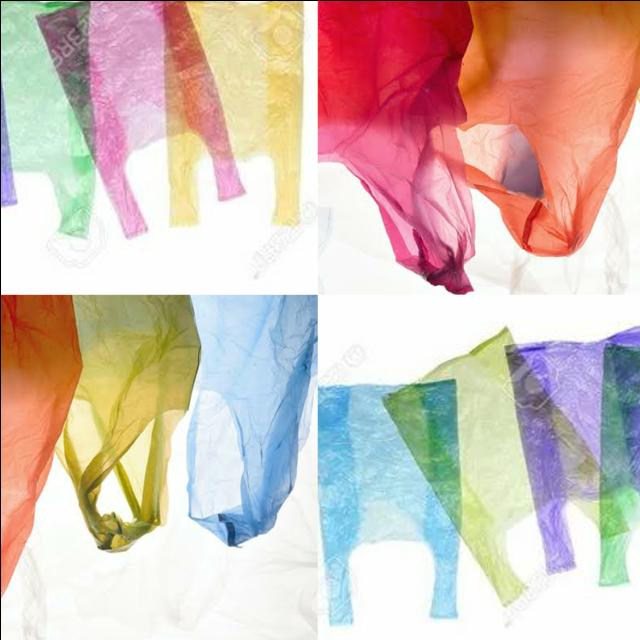plastik: (371, 316, 635, 619), (21, 0, 266, 253), (459, 0, 640, 256), (318, 0, 474, 292), (310, 374, 469, 636), (494, 316, 640, 584), (150, 0, 309, 242), (55, 295, 199, 552), (187, 296, 315, 545), (0, 295, 81, 596), (0, 0, 94, 249)
